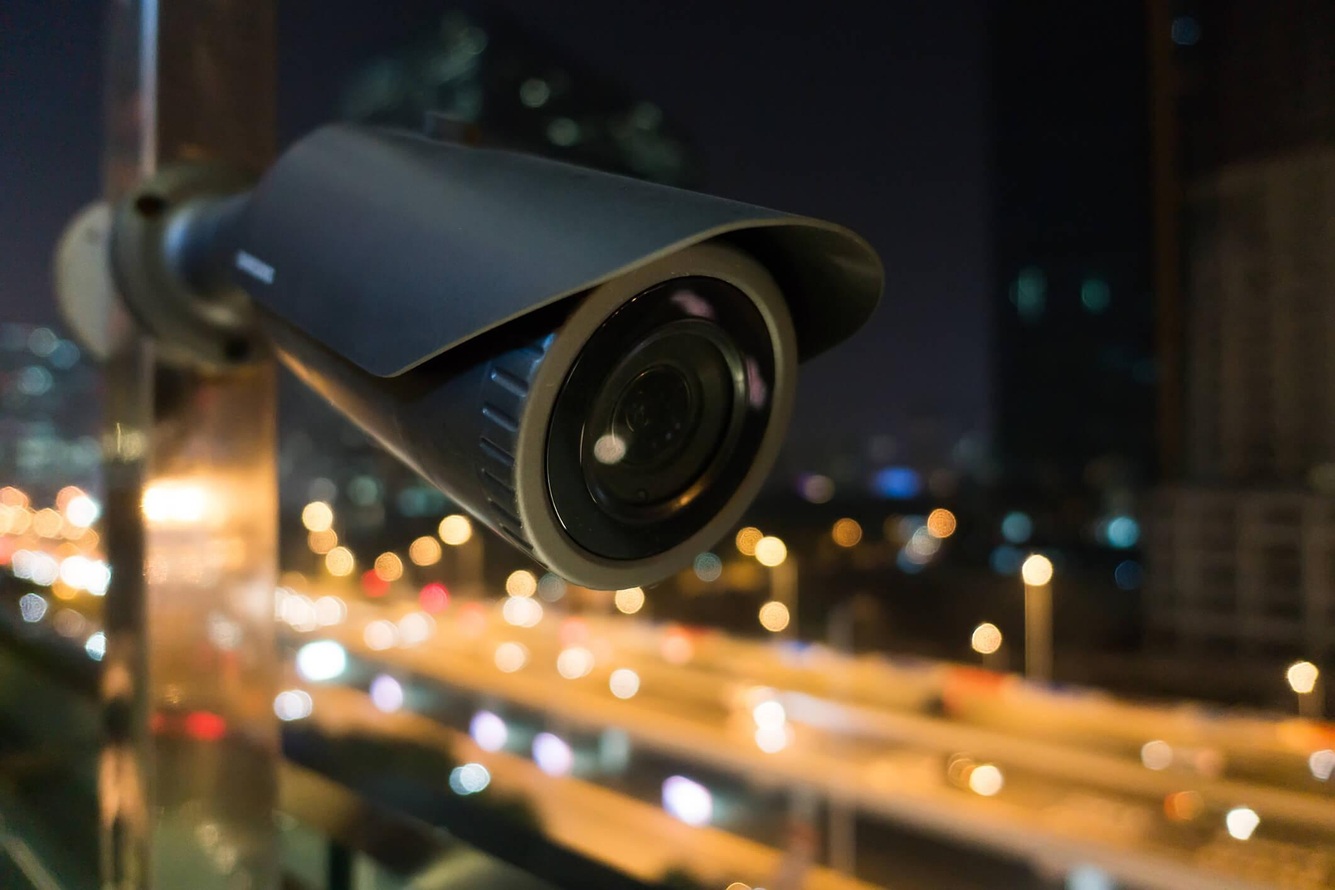camera: (201, 94, 932, 619)
